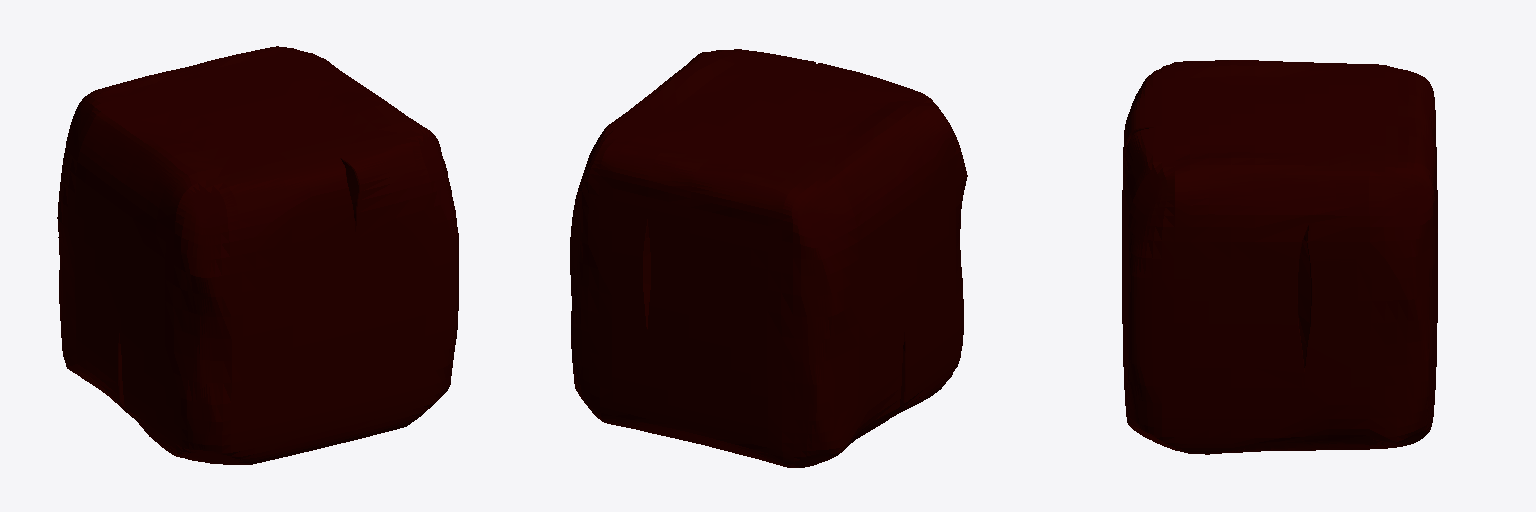
File: block.obj
3 renders of one model, left to right at view 1: azimuth 30°, elevation 25°; view 2: azimuth 150°, elevation 25°; view 3: azimuth 270°, elevation 25°, orthographic.
Parts seen in each view (by area): view 1: Cube.001; view 2: Cube.001; view 3: Cube.001.
Part boxes in pixels (bbox=[...]): Cube.001: bbox=[57, 46, 458, 464]; Cube.001: bbox=[570, 49, 967, 467]; Cube.001: bbox=[1122, 60, 1437, 454].
Bounding box in the file's own units: 202 × 204 × 202.